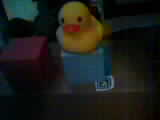duck: (51, 4, 100, 49)
